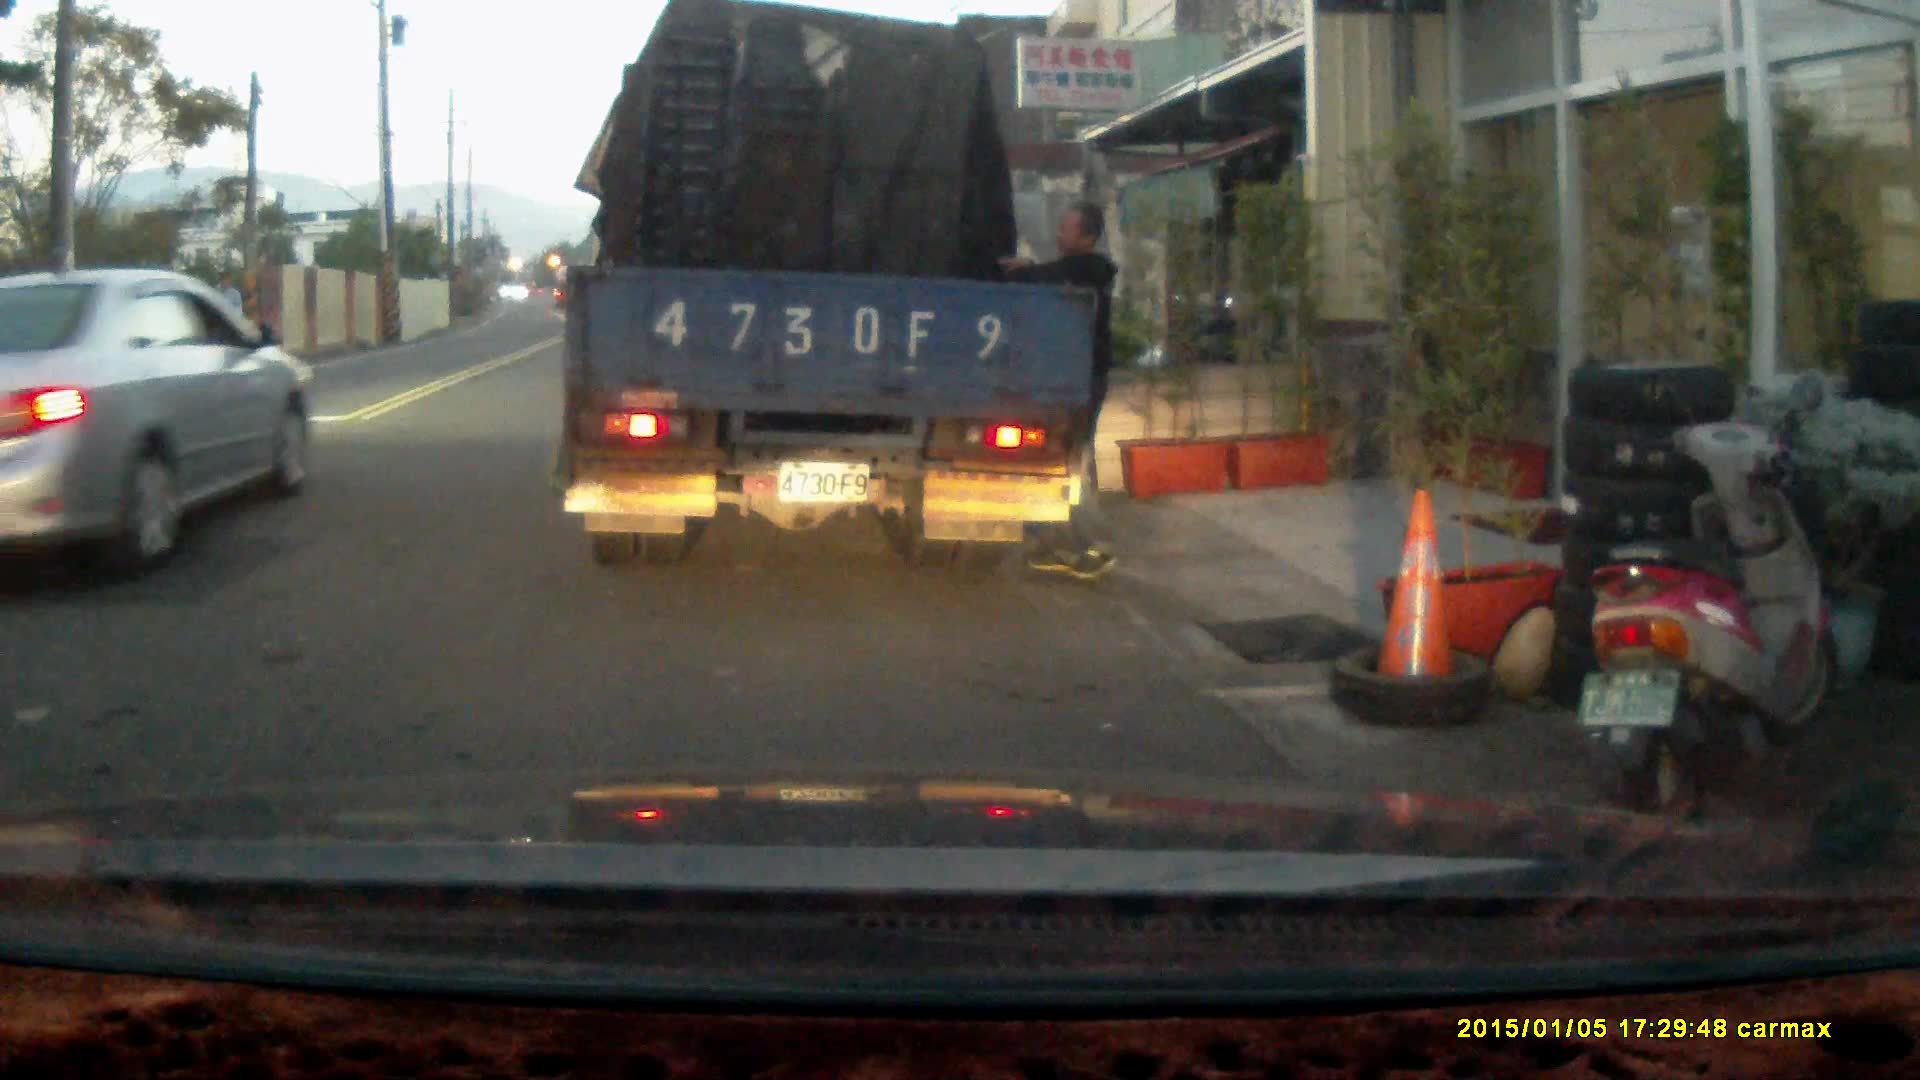pedestrian: (995, 198, 1123, 582), (204, 269, 244, 382)
vehicle: (565, 23, 1097, 572), (1, 264, 329, 598)
